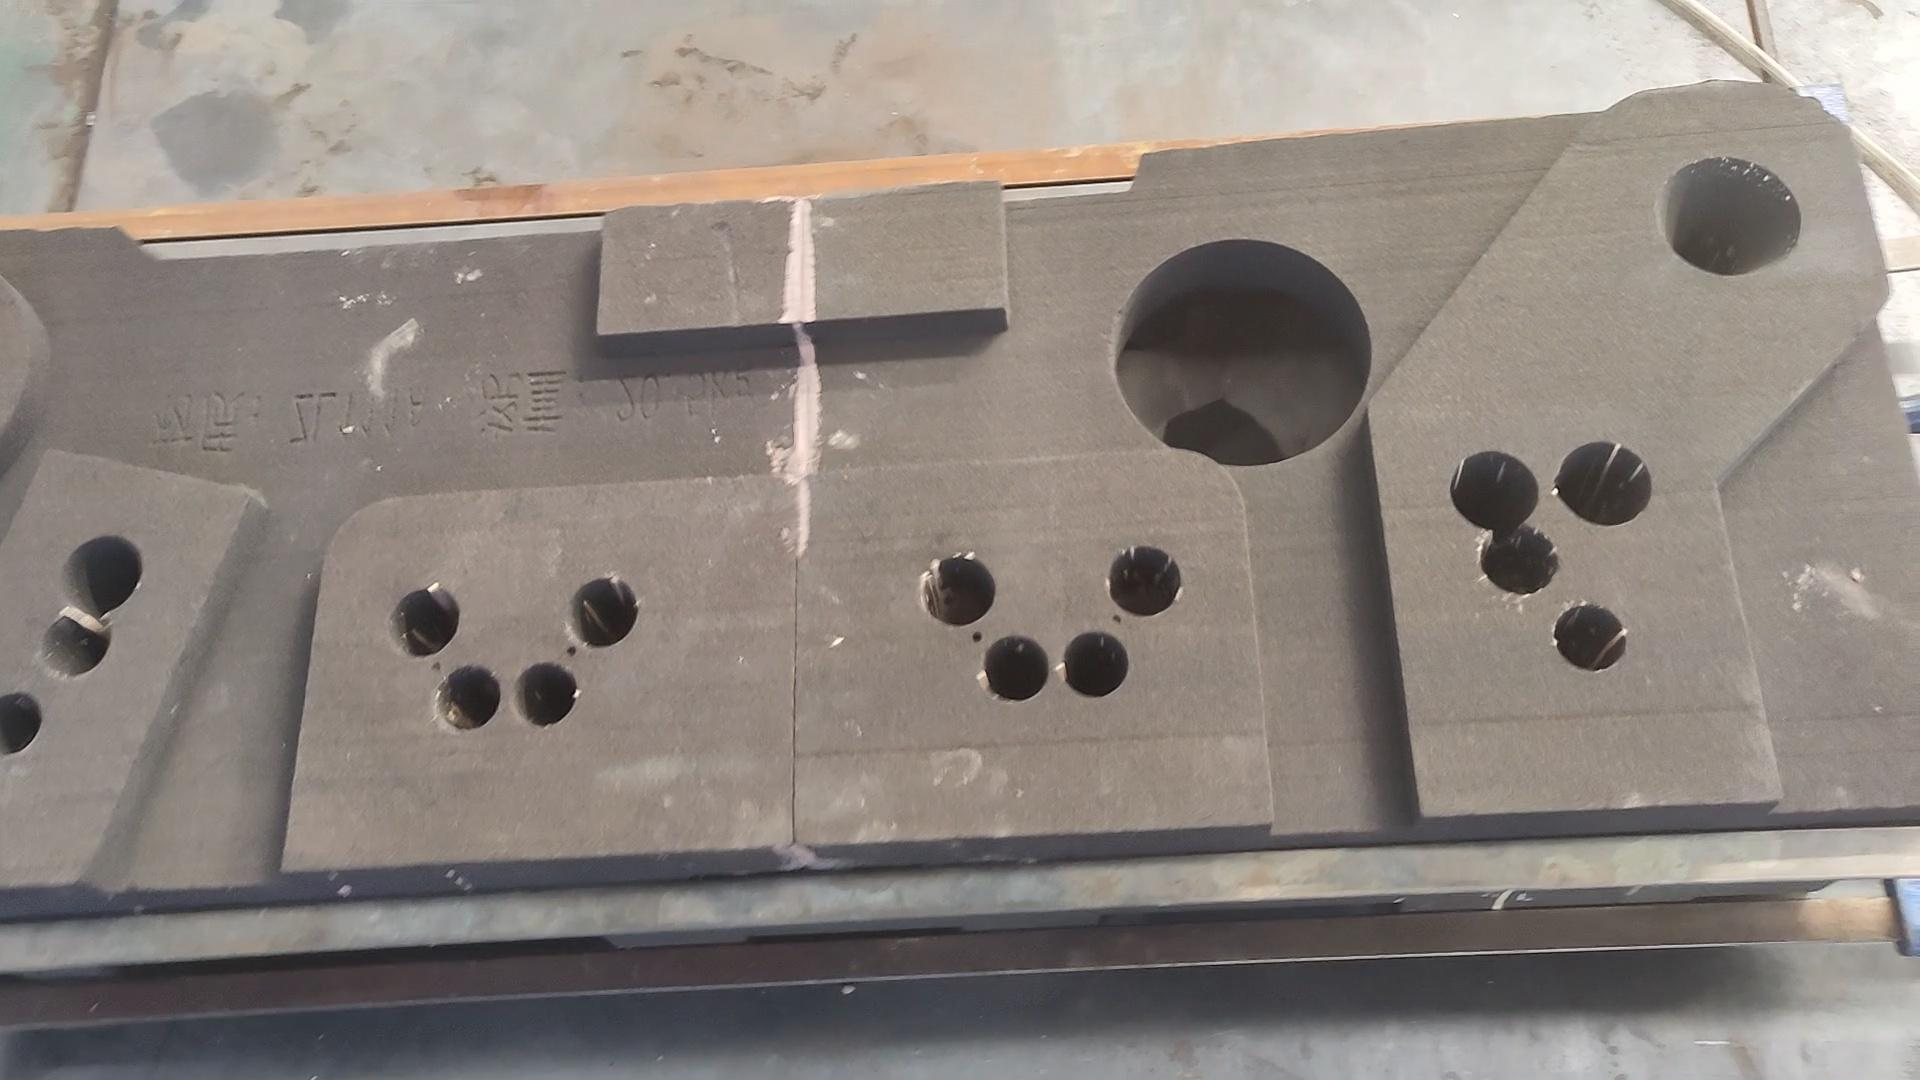pouring hole: (1656, 157, 1803, 278)
